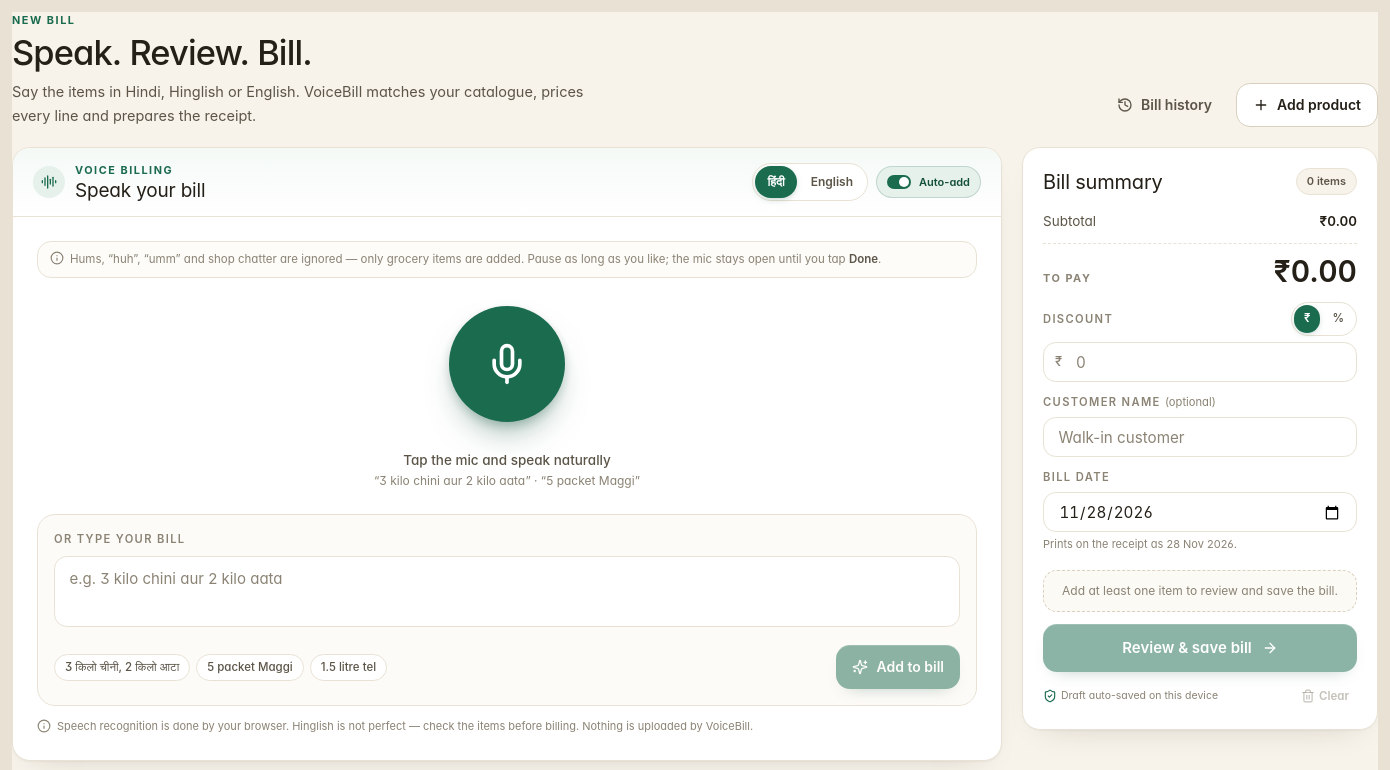
Test: new bill workspace › does not add a product when the shopkeeper only hums into the mic
Click the button named "start voice input". click: (507, 364)
box: x1=449 y1=306 x2=565 y2=422
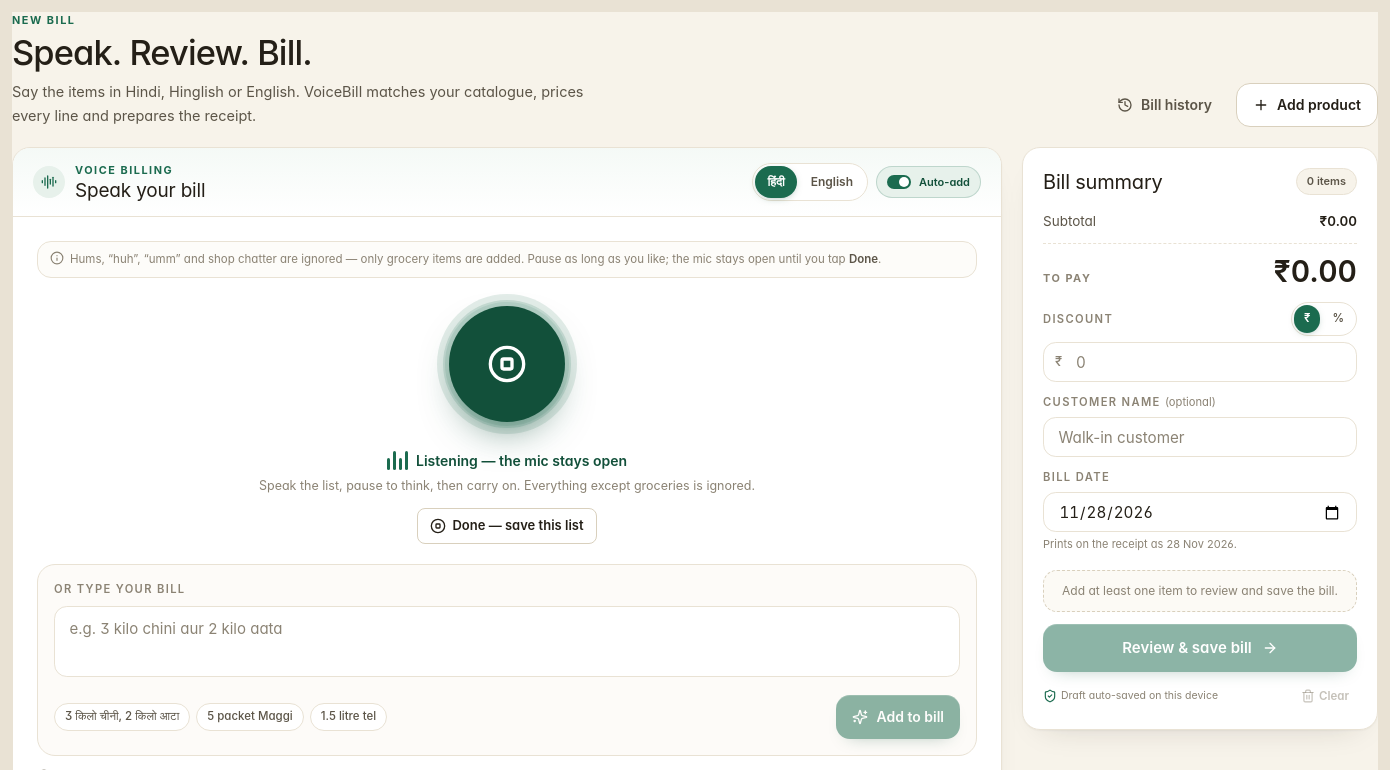
Expected: the button "Done — save this list" is shown, x1=418 y1=508 x2=596 y2=544
